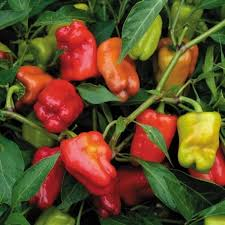bell pepper: (127, 101, 186, 193), (52, 124, 118, 193), (33, 77, 89, 144), (54, 13, 98, 85), (176, 108, 220, 175), (94, 40, 139, 97), (129, 10, 165, 67), (162, 34, 189, 102), (11, 64, 49, 93)
